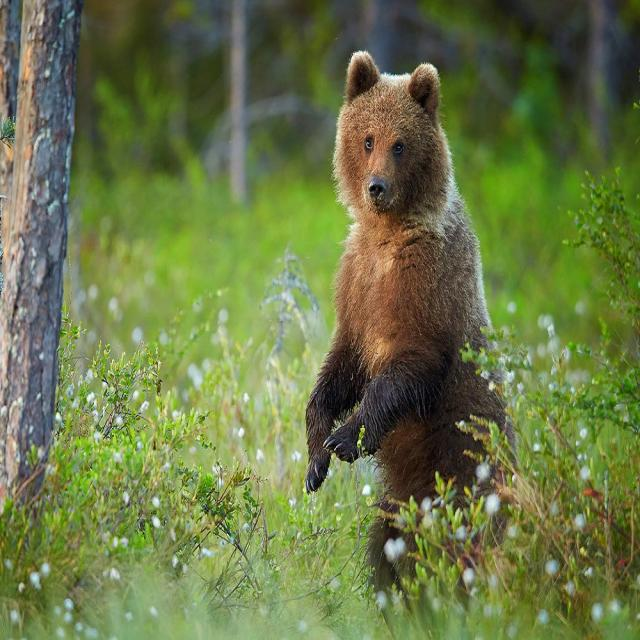bear: (305, 51, 514, 503)
